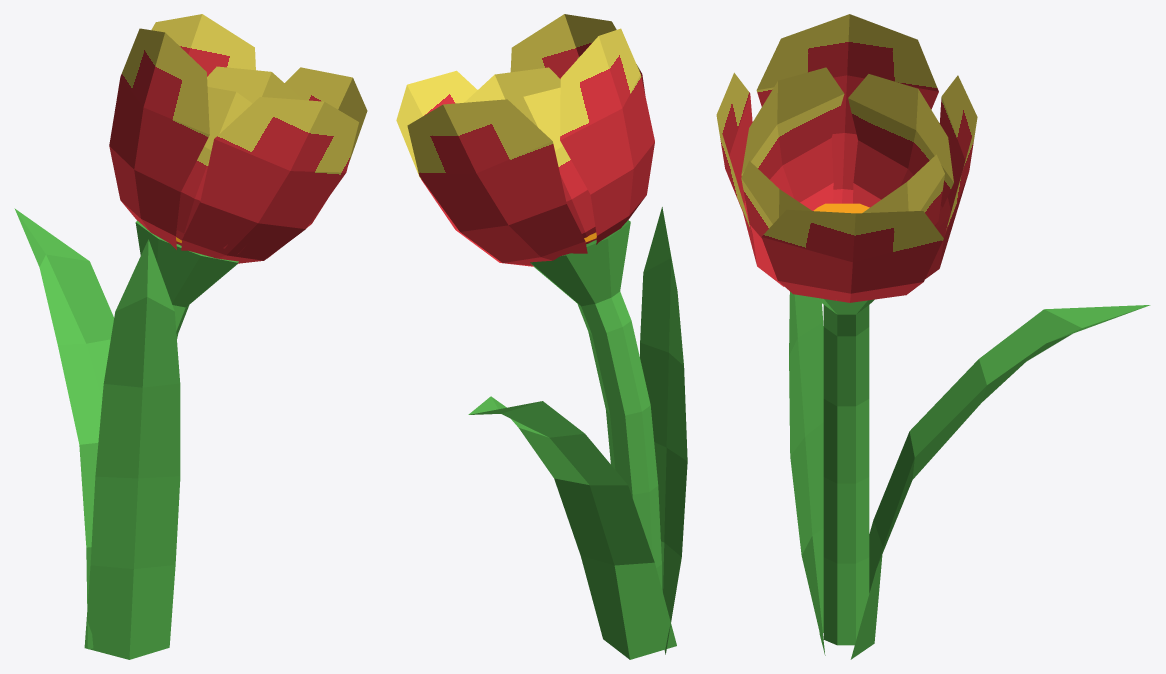
The picture shows the model from 3 angles, left to right: view 1: azimuth 30°, elevation 25°; view 2: azimuth 150°, elevation 25°; view 3: azimuth 270°, elevation 25°; orthographic projection. The views are drawn at different scales.
Visible parts, largest first — view 1: plane (×8), tube; view 2: plane (×8), cylinder, tube; view 3: plane (×10), cylinder.
Part boxes in pixels (x1,y1,x2,y2): plane (×8): [14, 14, 367, 659]; tube: [135, 221, 238, 307]; plane (×8): [396, 14, 687, 659]; cylinder: [577, 291, 661, 588]; tube: [530, 220, 630, 306]; plane (×10): [716, 14, 1150, 659]; cylinder: [823, 305, 869, 645].
Bounding box in the file's own units: 0.4565 × 0.9851 × 0.5955.
Materials: 1 (1 with a texture image).
